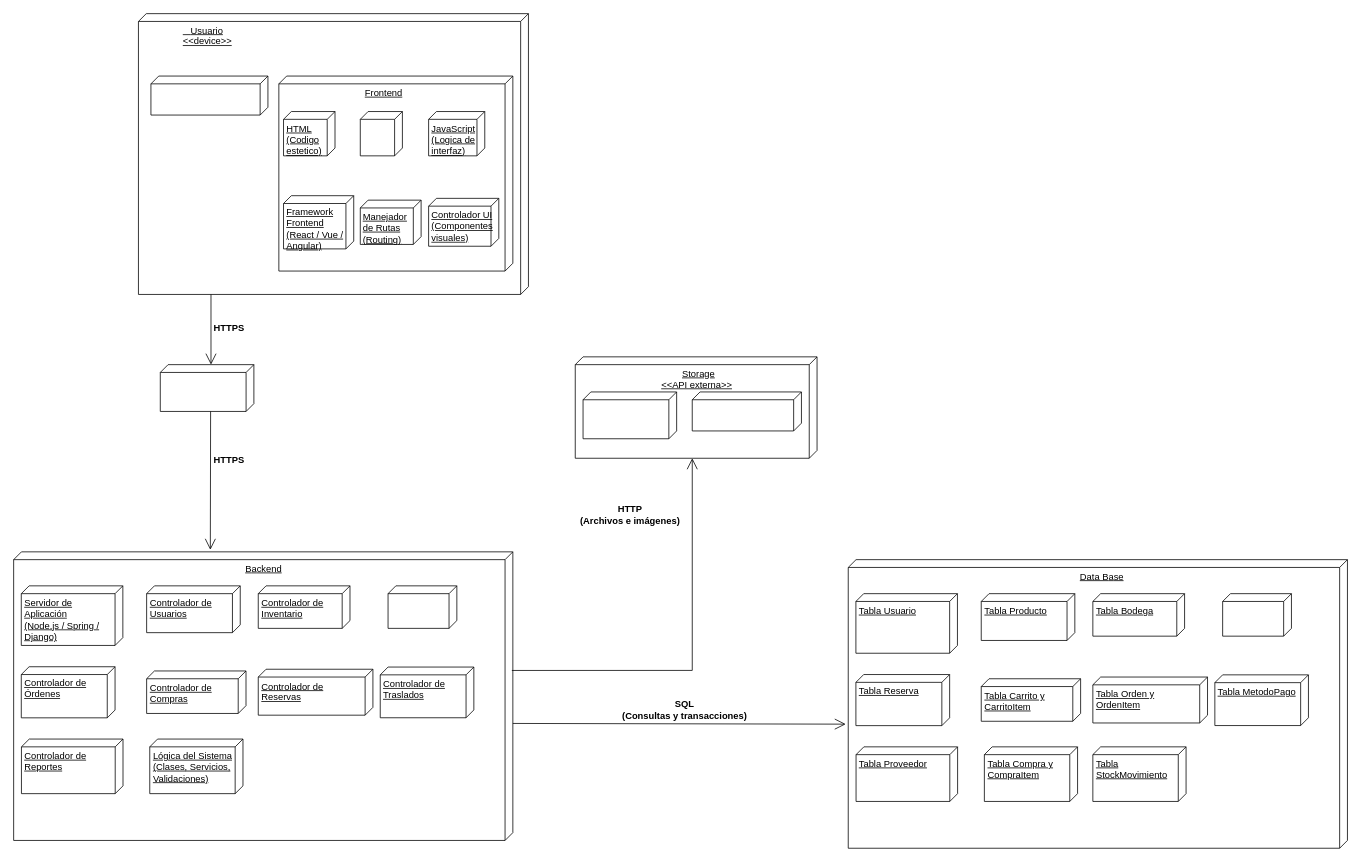
Image size: 1361x862. Some labels were removed from this diagram. The centre of each missing label's shape, as x and y in pixels:
"Controlador de Carrito" goes at (422,606).
"CSS (Estilos)" goes at (381,133).
"Documentos PDF (Facturas, Reportes)" goes at (746,411).
"Firewall/Router <<network>>" goes at (207,387).
"Imagenes productos" goes at (629,415).
"Navegador web (Chrome,Firefox,Edge)" goes at (209,95).
"Tabla Inventario" goes at (1256,614).
